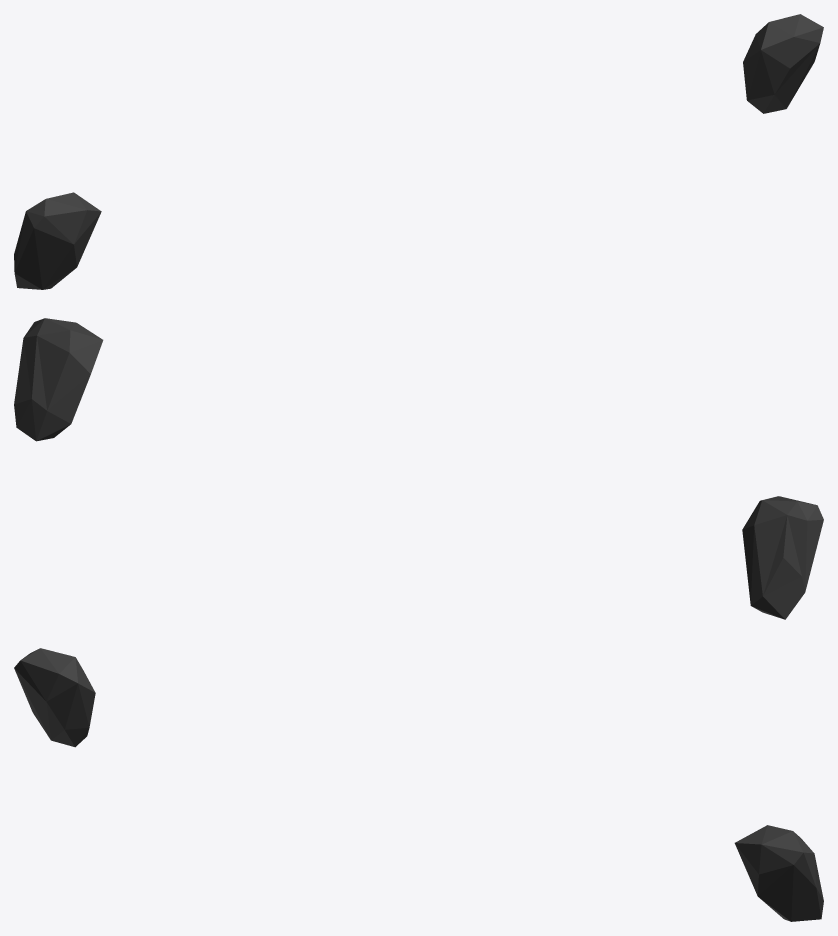
File: Patella.glb
The picture shows the model from 3 angles, top to bottom: view 1: azimuth 30°, elevation 25°; view 2: azimuth 150°, elevation 25°; view 3: azimuth 330°, elevation 25°; orthographic projection.
Visible parts, largest first — view 1: Patella; view 2: Patella; view 3: Patella.
Boxes of the visible parts, x1,y1,x2,y2 form: Patella: (14, 14, 823, 289); Patella: (14, 318, 823, 619); Patella: (14, 648, 823, 921).
Size of the model in its own units: 0.00463 by 0.000593 by 0.000342.
1 material, 1 textured.
